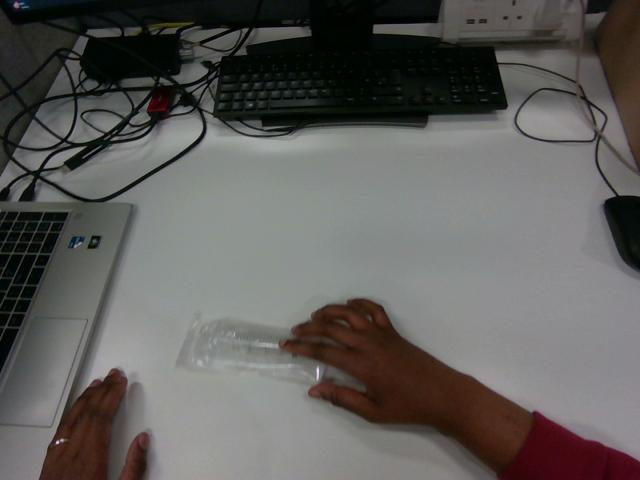syringe: (177, 318, 357, 387)
